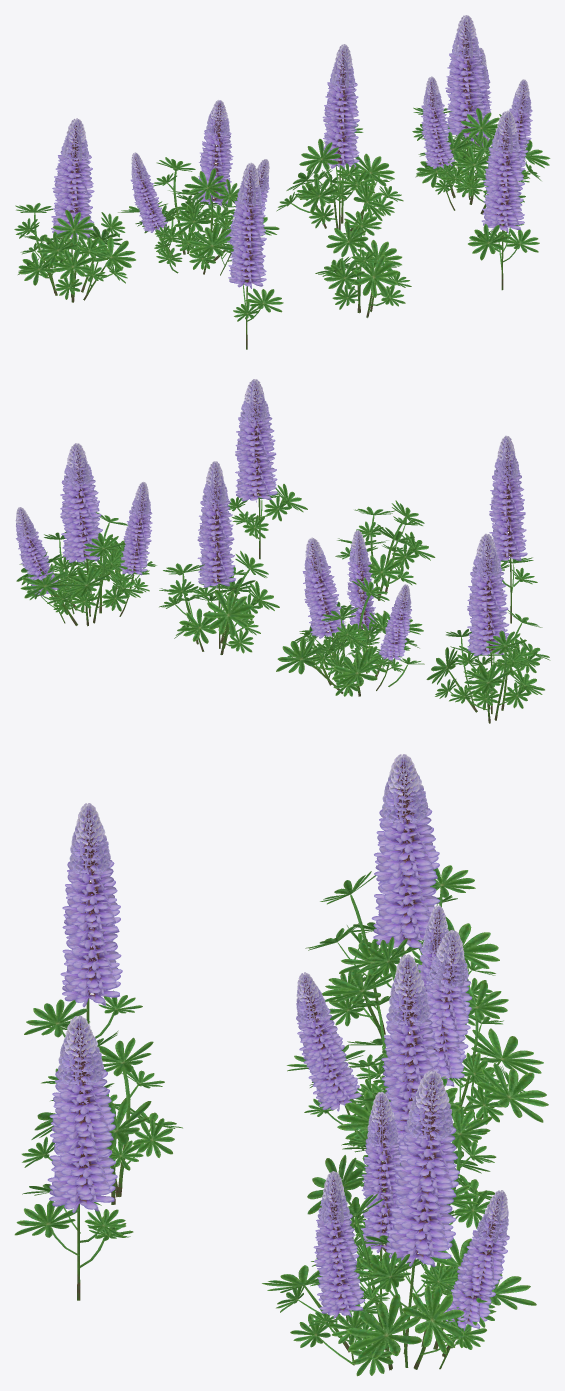
Rendered from lupines.glb.
The picture shows the model from 3 angles, top to bottom: view 1: azimuth 30°, elevation 25°; view 2: azimuth 150°, elevation 25°; view 3: azimuth 270°, elevation 25°; orthographic projection. The views are drawn at different scales.
Parts seen in each view (by area): view 1: SM_Lupines_01_blinn9_0; view 2: SM_Lupines_01_blinn9_0; view 3: SM_Lupines_01_blinn9_0.
Boxes of the visible parts, x1,y1,x2,y2 form: SM_Lupines_01_blinn9_0: (14, 15, 550, 349); SM_Lupines_01_blinn9_0: (15, 379, 550, 723); SM_Lupines_01_blinn9_0: (14, 754, 548, 1376).
Bounding box in the file's own units: 4.18 × 1.45 × 2.31.
1 material, 1 textured.
